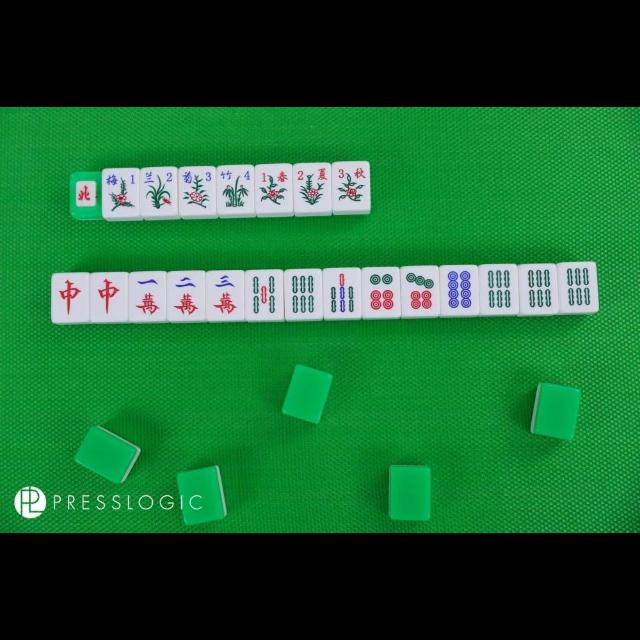b5: (246, 272, 284, 321)
b6: (520, 264, 558, 316), (284, 270, 322, 320), (560, 263, 598, 313), (480, 265, 518, 313)
b7: (323, 269, 362, 317)
c1: (129, 272, 167, 320)
c2: (168, 272, 204, 321)
c3: (206, 272, 244, 320)
d6: (362, 269, 398, 317)
d7: (402, 267, 441, 315)
d8: (443, 266, 477, 314)
dr: (90, 273, 128, 321), (52, 274, 86, 322)
f1: (102, 168, 142, 188)
f2: (140, 168, 178, 188)
f3: (178, 166, 216, 186)
f4: (218, 166, 255, 184)
s1: (255, 164, 292, 186)
s2: (294, 163, 334, 184)
s3: (333, 161, 371, 183)
